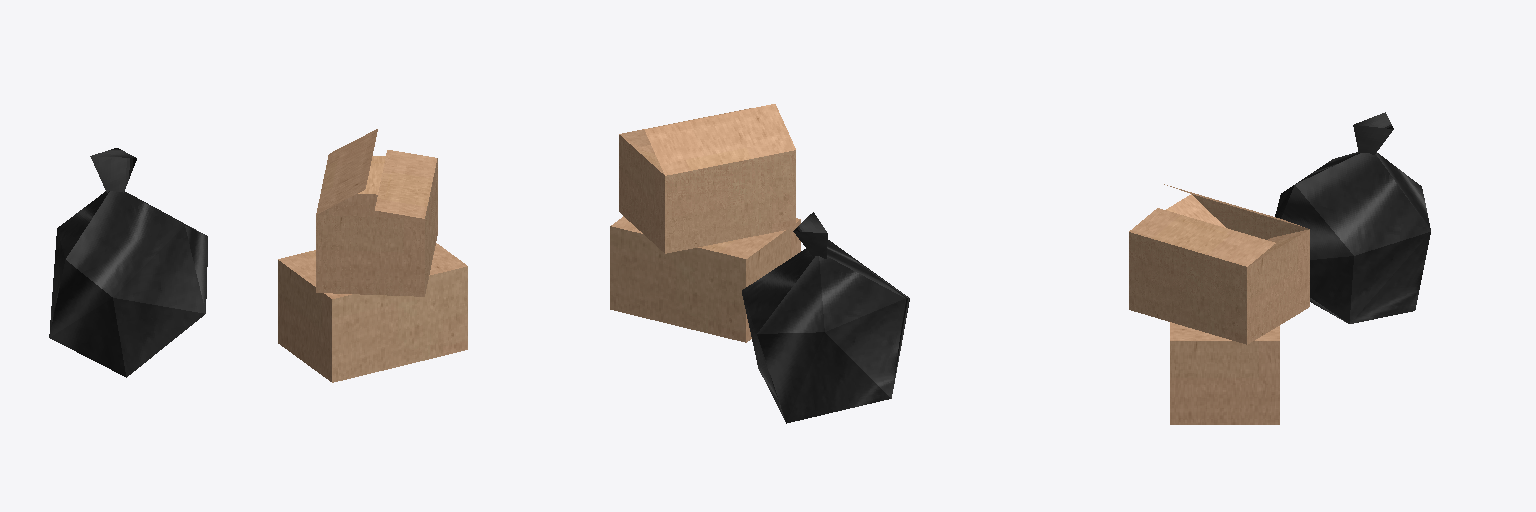
The picture shows the model from 3 angles: view 1: azimuth 30°, elevation 25°; view 2: azimuth 150°, elevation 25°; view 3: azimuth 270°, elevation 25°; orthographic projection.
Visible parts, largest first — view 1: BOX2; view 2: BOX2; view 3: BOX2.
Boxes of the visible parts, x1=… form: BOX2: x1=49, y1=129, x2=467, y2=382; BOX2: x1=610, y1=104, x2=909, y2=423; BOX2: x1=1129, y1=112, x2=1430, y2=424.
Bounding box in the file's own units: 0.6569 × 0.3684 × 0.5206.
2 materials, 2 textured.